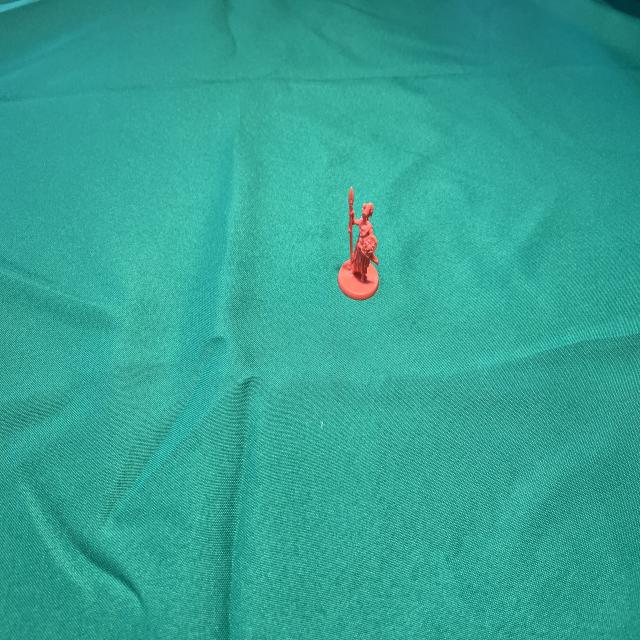amon_follower: (338, 188, 379, 300)
